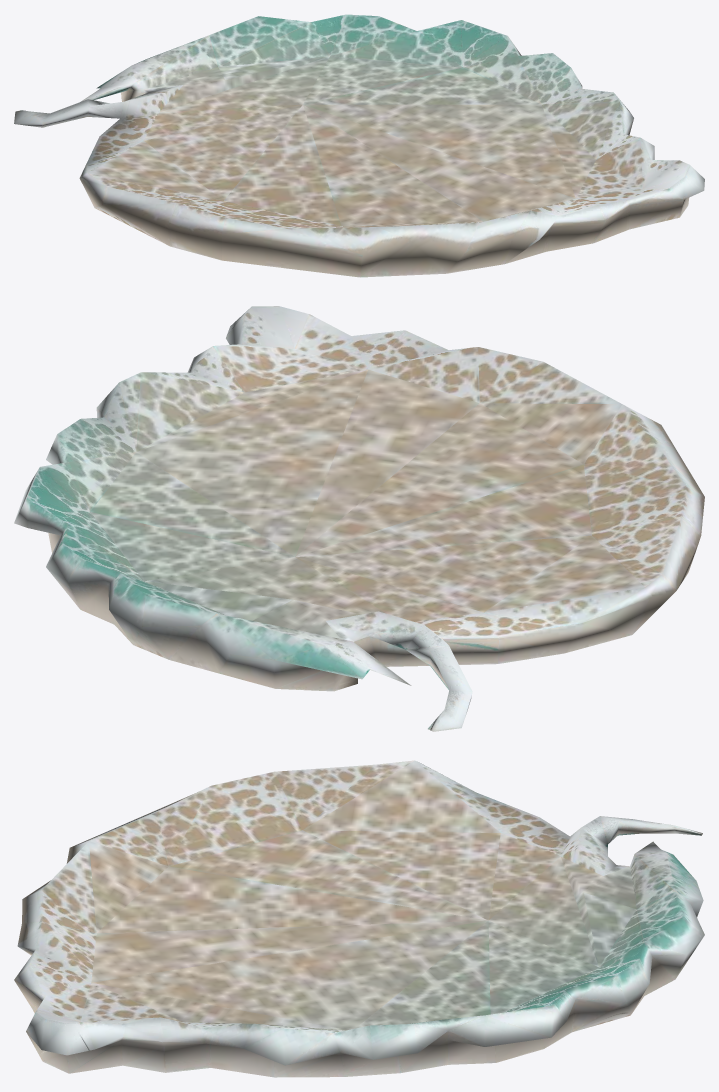
The model's file is surf.glb.
3 renders of one model, top to bottom at view 1: azimuth 30°, elevation 25°; view 2: azimuth 150°, elevation 25°; view 3: azimuth 270°, elevation 25°, orthographic. The views are drawn at different scales.
Bounding box in the file's own units: 0.9536 × 0.0874 × 0.9634.
Materials: 1 (1 with a texture image).
